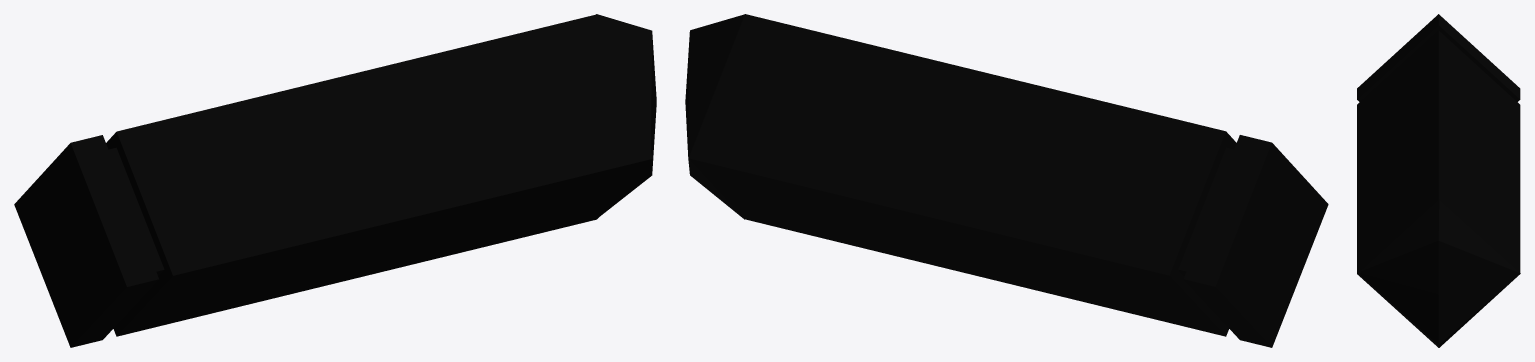
Rendered from UziBul.glb.
3 renders of one model, left to right at view 1: azimuth 30°, elevation 25°; view 2: azimuth 150°, elevation 25°; view 3: azimuth 270°, elevation 25°, orthographic. The views are drawn at different scales.
Visible parts, largest first — view 1: UziBul; view 2: UziBul; view 3: UziBul.
Boxes of the visible parts, x1,y1,x2,y2 form: UziBul: (14, 14, 656, 347); UziBul: (685, 14, 1328, 347); UziBul: (1357, 14, 1520, 347).
Bounding box in the file's own units: 6.93 × 2.32 × 2.32.
Materials: 1 (1 with a texture image).
